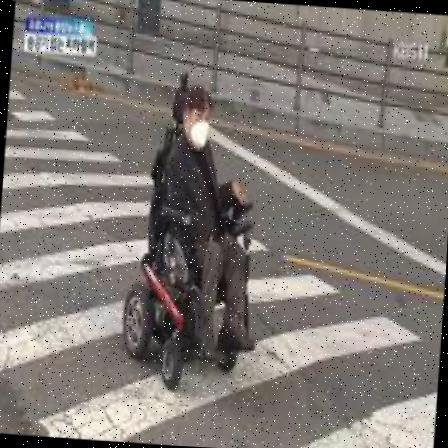wheel: (120, 72, 270, 395)
